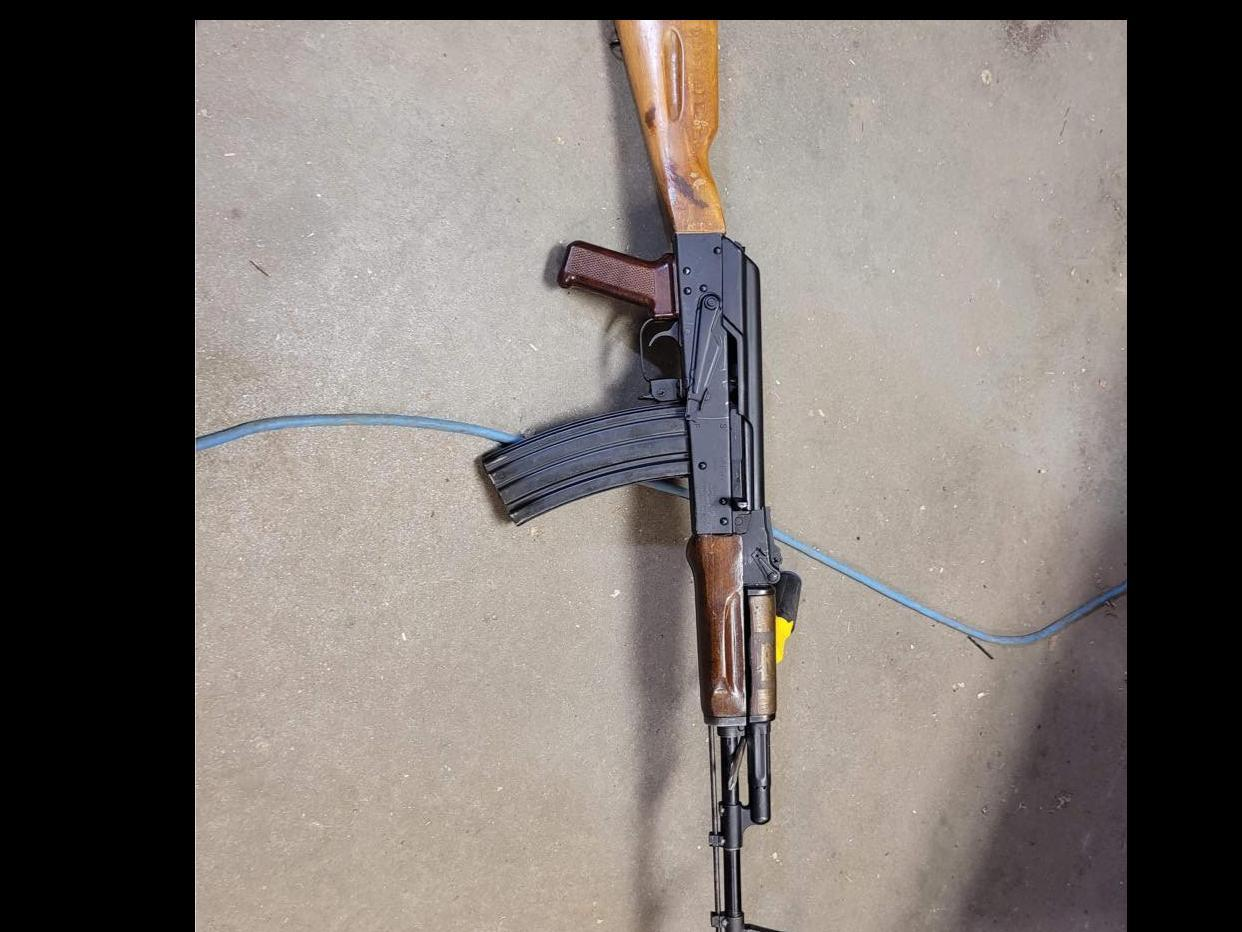larga: (472, 22, 786, 932)
